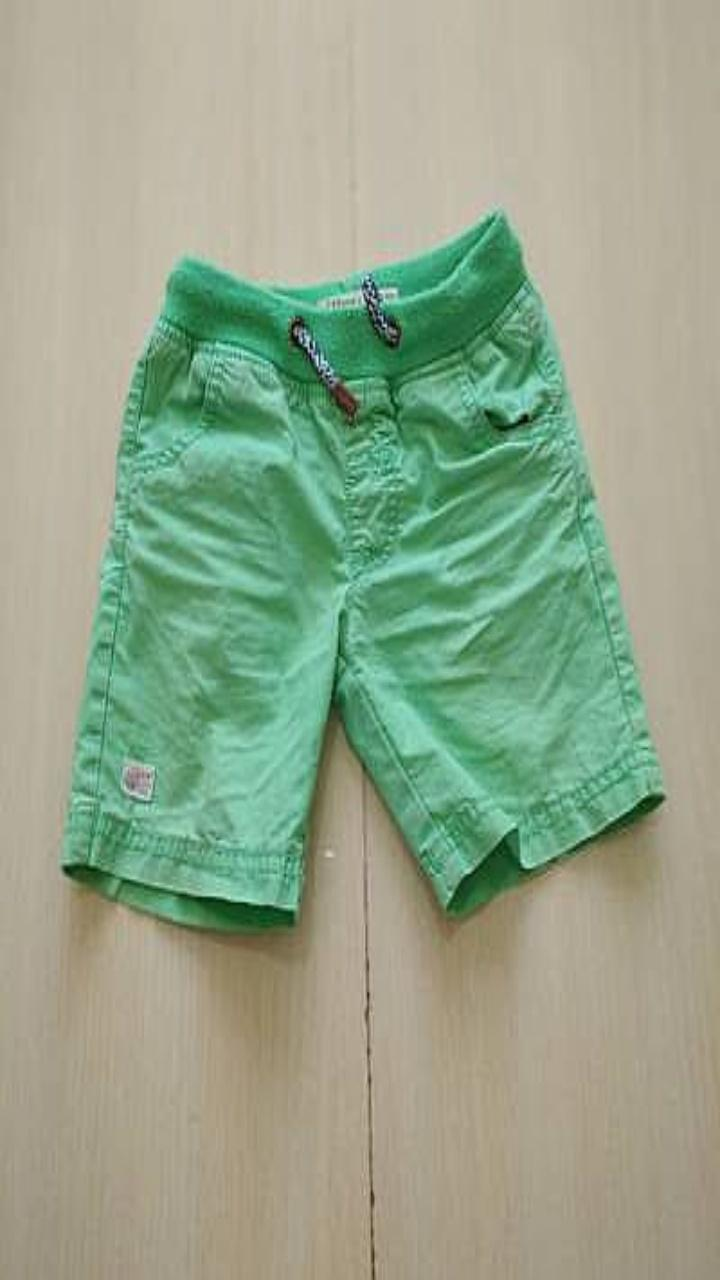Shorts: (62, 208, 663, 929)
